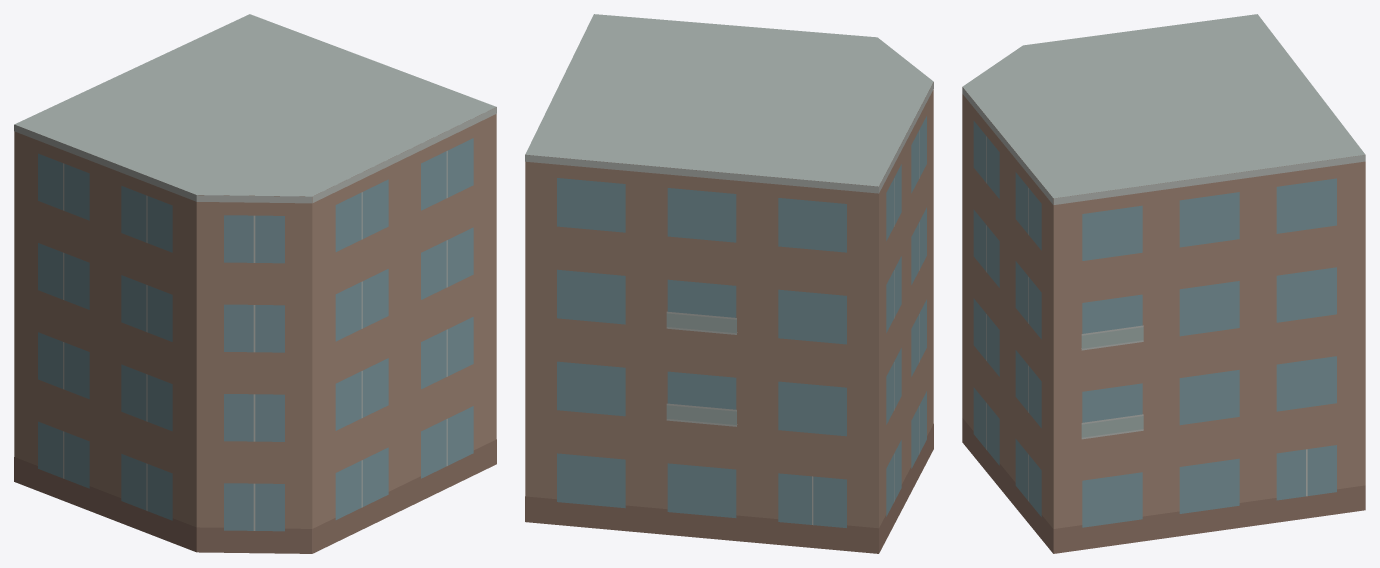
File: survey-upis-32739896.glb
3 views of the same model, side by side, from view 1: azimuth 30°, elevation 25°; view 2: azimuth 150°, elevation 25°; view 3: azimuth 270°, elevation 25° (orthographic). The views are drawn at different scales.
Visible parts, largest first — view 1: survey-upis-32739896.tmp; view 2: survey-upis-32739896.tmp; view 3: survey-upis-32739896.tmp.
Part boxes in pixels (<box>): survey-upis-32739896.tmp: <box>14,14,496,553</box>; survey-upis-32739896.tmp: <box>525,14,933,553</box>; survey-upis-32739896.tmp: <box>962,14,1365,553</box>.
Size of the model in its own units: 14.19 by 12.75 by 13.12.
